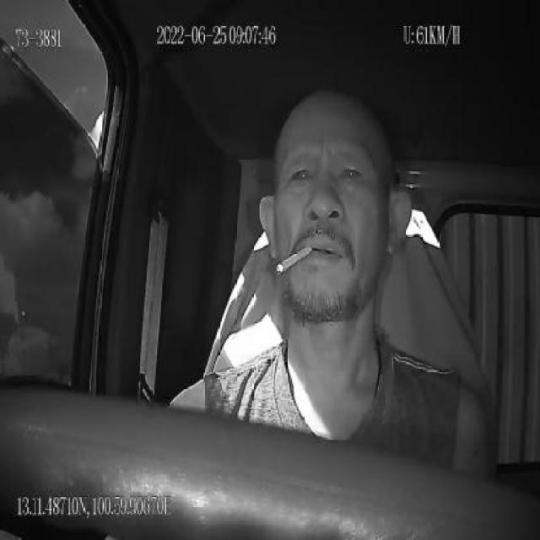smoking: (275, 244, 313, 274)
